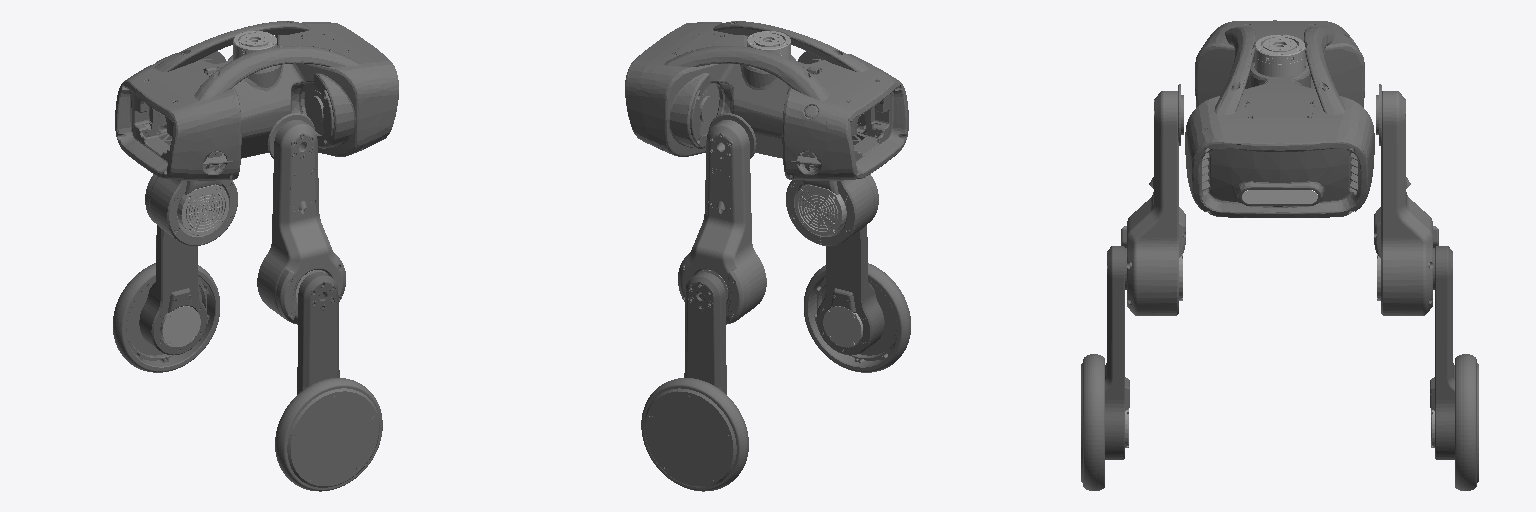
URDF robot description (pineapple_v2):
<?xml version="1.0" encoding="utf-8"?>
<!-- This URDF was automatically created by SolidWorks to URDF Exporter! Originally created by Stephen Brawner (brawner@gmail.com) 
     Commit Version: 1.6.0-4-g7f85cfe  Build Version: 1.6.7995.38578
     For more information, please see http://wiki.ros.org/sw_urdf_exporter -->
<robot
  name="pineapple_v2">
  <mujoco>
    <compiler
      meshdir="v2/meshes"
      balanceinertia="true"
      discardvisual="false" />
  </mujoco>
  <link
    name="base_link">
    <inertial>
      <origin
        xyz="-0.0018705 1.4002E-08 0.043903"
        rpy="0 0 0" />
      <mass
        value="1.673" />
      <inertia
        ixx="0.00924389"
        ixy="0"
        ixz="-0.00155379"
        iyy="0.01472633"
        iyz="0"
        izz="0.02192228" />
    </inertial>
    <visual>
      <origin
        xyz="0 0 0"
        rpy="0 0 0" />
      <geometry>
        <mesh
          filename="package://v2/meshes/base_link.STL" />
      </geometry>
      <material
        name="">
        <color
          rgba="0.48627 0.48627 0.48627 1" />
      </material>
    </visual>
    <collision>
      <origin
        xyz="0.03 0 0.058"
        rpy="0 0 0" />
      <geometry>
        <box size="0.31 0.15 0.13"/>
      </geometry>
    </collision>
  </link>
  <link
    name="battery">
    <inertial>
      <origin
        xyz="-0.060839 -3.4182E-06 0.06104"
        rpy="0 0 0" />
      <mass
        value="0.76" />
      <inertia
        ixx="0.00045379"
        ixy="0"
        ixz="-0.00004362"
        iyy="0.00161715"
        iyz="0"
        izz="0.00174882" />
    </inertial>
    <visual>
      <origin
        xyz="0 0 0"
        rpy="0 0 0" />
      <geometry>
        <mesh
          filename="package://v2/meshes/battery.STL" />
      </geometry>
      <material
        name="">
        <color
          rgba="1 1 1 1" />
      </material>
    </visual>
  </link>
  <joint
    name="battery_fix"
    type="fixed">
    <origin
      xyz="0 0 0"
      rpy="0 0 0" />
    <parent
      link="base_link" />
    <child
      link="battery" />
    <axis
      xyz="0 0 0" />
  </joint>
  <link
    name="arm_base">
    <inertial>
      <origin
        xyz="0.031204 -1.73E-09 0.11757"
        rpy="0 0 0" />
      <mass
        value="0.375" />
      <inertia
        ixx="0.00018034"
        ixy="0"
        ixz="0"
        iyy="0.00018048"
        iyz="0"
        izz="0.00015376" />
    </inertial>
    <visual>
      <origin
        xyz="0 0 0"
        rpy="0 0 0" />
      <geometry>
        <mesh
          filename="package://v2/meshes/arm_base.STL" />
      </geometry>
      <material
        name="">
        <color
          rgba="0.62745 0.62745 0.62745 1" />
      </material>
    </visual>
  </link>
  <joint
    name="arm_base_fix"
    type="fixed">
    <origin
      xyz="0 0 0"
      rpy="0 0 0" />
    <parent
      link="base_link" />
    <child
      link="arm_base" />
    <axis
      xyz="0 0 0" />
  </joint>
  <link
    name="hip_motor_L">
    <inertial>
      <origin
        xyz="0.11298 0.050823 0.056"
        rpy="0 0 0" />
      <mass
        value="0.55" />
      <inertia
        ixx="0.00058434"
        ixy="0"
        ixz="0"
        iyy="0.00035536"
        iyz="0"
        izz="0.00035536" />
    </inertial>
    <visual>
      <origin
        xyz="0 0 0"
        rpy="0 0 0" />
      <geometry>
        <mesh
          filename="package://v2/meshes/hip_motor_L.STL" />
      </geometry>
      <material
        name="">
        <color
          rgba="0.53725 0.53725 0.53725 1" />
      </material>
    </visual>
  </link>
  <joint
    name="hip_motor_L_fix"
    type="fixed">
    <origin
      xyz="0 0 0"
      rpy="0 0 0" />
    <parent
      link="base_link" />
    <child
      link="hip_motor_L" />
    <axis
      xyz="0 0 0" />
  </joint>
  <link
    name="hip_motor_R">
    <inertial>
      <origin
        xyz="0.11298 -0.050823 0.056"
        rpy="0 0 0" />
      <mass
        value="0.55" />
      <inertia
        ixx="0.00058436"
        ixy="0"
        ixz="0"
        iyy="0.00035536"
        iyz="0"
        izz="0.00035536" />
    </inertial>
    <visual>
      <origin
        xyz="0 0 0"
        rpy="0 0 0" />
      <geometry>
        <mesh
          filename="package://v2/meshes/hip_motor_R.STL" />
      </geometry>
      <material
        name="">
        <color
          rgba="0.53725 0.53725 0.53725 1" />
      </material>
    </visual>
  </link>
  <joint
    name="hip_motor_R_fix"
    type="fixed">
    <origin
      xyz="0 0 0"
      rpy="0 0 0" />
    <parent
      link="base_link" />
    <child
      link="hip_motor_R" />
    <axis
      xyz="0 0 0" />
  </joint>
  <link
    name="L_hip">
    <inertial>
      <origin
        xyz="-0.054338 0.035638 0.0012594"
        rpy="0 0 0" />
      <mass
        value="0.894" />
      <inertia
        ixx="0.00086083"
        ixy="0.00019452"
        ixz="-0.00000539"
        iyy="0.00150769"
        iyz="-0.00002673"
        izz="0.00125803" />
    </inertial>
    <visual>
      <origin
        xyz="0 0 0"
        rpy="0 0 0" />
      <geometry>
        <mesh
          filename="package://v2/meshes/L_hip.STL" />
      </geometry>
      <material
        name="">
        <color
          rgba="0.4 0.4 0.4 1" />
      </material>
    </visual>
    <!-- <collision>
      <origin
        xyz="0 0 0"
        rpy="0 0 0" />
      <geometry>
        <mesh
          filename="package://pineappleV2/meshes/L_hip.STL" />
      </geometry>
    </collision> -->
  </link>
  <joint
    name="L_hip_joint"
    type="revolute">
    <origin
      xyz="0.086334 0.050823 0.056"
      rpy="0 0 0" />
    <parent
      link="base_link" />
    <child
      link="L_hip" />
    <axis
      xyz="1 0 0" />
    <limit
      lower="-0.698"
      upper="0.698"
      effort="20.0"
      velocity="12.566" />
  </joint>
  <link
    name="L_thigh">
    <inertial>
      <origin
        xyz="-0.0013708 0.020383 -0.10951"
        rpy="0 0 0" />
      <mass
        value="0.434" />
      <inertia
        ixx="0.00310085"
        ixy="0.00002314"
        ixz="-0.00005039"
        iyy="0.00322592"
        iyz="0.00034394"
        izz="0.00046026" />
    </inertial>
    <visual>
      <origin
        xyz="0 0 0"
        rpy="0 0 0" />
      <geometry>
        <mesh
          filename="package://v2/meshes/L_thigh.STL" />
      </geometry>
      <material
        name="">
        <color
          rgba="0.5 0.5 0.5 1" />
      </material>
    </visual>
    <collision>
      <origin
        xyz="0 0.014 0"
        rpy="1.5707963267948966 0 0" />
      <geometry>
        <cylinder radius="0.028" length="0.028"/>
      </geometry>
    </collision>
    <collision>
      <origin
        xyz="0 0.014 -0.0825"
        rpy="0 0 0" />
      <geometry>
        <box size="0.056 0.028 0.11"/>
      </geometry>
    </collision>
    <collision>
      <origin
        xyz="0 0.029 -0.19"
        rpy="1.5707963267948966 0 0" />
      <geometry>
        <cylinder radius="0.0525" length="0.058"/>
      </geometry>
    </collision>
  </link>
  <joint
    name="L_thigh_joint"
    type="revolute">
    <origin
      xyz="-0.066166 0.063177 0"
      rpy="0 0 0" />
    <parent
      link="L_hip" />
    <child
      link="L_thigh" />
    <axis
      xyz="0 1 0" />
    <limit
      lower="-0.349"
      upper="1.919"
      effort="20.0"
      velocity="12.566" />
  </joint>
  <link
    name="knee_motor_L">
    <inertial>
      <origin
        xyz="3.9085E-05 0.027697 -0.19004"
        rpy="0 0 0" />
      <mass
        value="0.93" />
      <inertia
        ixx="0.00071403"
        ixy="0.00000108"
        ixz="0.00000007"
        iyy="0.00104381"
        iyz="-0.00000112"
        izz="0.00071500" />
    </inertial>
    <visual>
      <origin
        xyz="0 0 0"
        rpy="0 0 0" />
      <geometry>
        <mesh
          filename="package://v2/meshes/knee_motor_L.STL" />
      </geometry>
      <material
        name="">
        <color
          rgba="0.62745 0.62745 0.62745 1" />
      </material>
    </visual>
  </link>
  <joint
    name="knee_motor_L_fix"
    type="fixed">
    <origin
      xyz="0 0 0"
      rpy="0 0 0" />
    <parent
      link="L_thigh" />
    <child
      link="knee_motor_L" />
    <axis
      xyz="0 0 0" />
  </joint>
  <link
    name="L_calf">
    <inertial>
      <origin
        xyz="-3.8284E-05 0.015201 -0.098879"
        rpy="0 0 0" />
      <mass
        value="0.353" />
      <inertia
        ixx="0.00211322"
        ixy="0"
        ixz="0.00000131"
        iyy="0.00220869"
        iyz="0.00010889"
        izz="0.00017931" />
    </inertial>
    <visual>
      <origin
        xyz="0 0 0"
        rpy="0 0 0" />
      <geometry>
        <mesh
          filename="package://v2/meshes/L_calf.STL" />
      </geometry>
      <material
        name="">
        <color
          rgba="0.43922 0.43922 0.43922 1" />
      </material>
    </visual>
    <collision>
      <origin
        xyz="0 0.0135 0"
        rpy="1.5707963267948966 0 0" />
      <geometry>
        <cylinder radius="0.026" length="0.021"/>
      </geometry>
    </collision>
        <collision>
      <origin
        xyz="0 0.0135 -0.087"
        rpy="0 0 0" />
      <geometry>
        <box size="0.052 0.021 0.122"/>
      </geometry>
    </collision>
        <collision>
      <origin
        xyz="0 0.0135 -0.19"
        rpy="1.5707963267948966 0 0" />
      <geometry>
        <cylinder radius="0.0415" length="0.021"/>
      </geometry>
    </collision>
  </link>
  <joint
    name="L_calf_joint"
    type="revolute">
    <origin
      xyz="0 0.056 -0.19"
      rpy="0 0 0" />
    <parent
      link="L_thigh" />
    <child
      link="L_calf" />
    <axis
      xyz="0 1 0" />
    <limit
      lower="-1.745"
      upper="1.745"
      effort="40.0"
      velocity="10.472" />
  </joint>
  <link
    name="wheel_motor_L">
    <inertial>
      <origin
        xyz="8.1392E-05 0.022061 -0.19008"
        rpy="0 0 0" />
      <mass
        value="0.335" />
      <inertia
        ixx="0.00014313"
        ixy="0"
        ixz="0"
        iyy="0.00023596"
        iyz="0"
        izz="0.00014397" />
    </inertial>
    <visual>
      <origin
        xyz="0 0 0"
        rpy="0 0 0" />
      <geometry>
        <mesh
          filename="package://v2/meshes/wheel_motor_L.STL" />
      </geometry>
      <material
        name="">
        <color
          rgba="0.62745 0.62745 0.62745 1" />
      </material>
    </visual>
  </link>
  <joint
    name="wheel_motor_L_fix"
    type="fixed">
    <origin
      xyz="0 0 0"
      rpy="0 0 0" />
    <parent
      link="L_calf" />
    <child
      link="wheel_motor_L" />
    <axis
      xyz="0 0 0" />
  </joint>
  <link
    name="L_wheel">
    <inertial>
      <origin
        xyz="-1.5282E-07 0.012142 -1.1774E-07"
        rpy="0 0 0" />
      <mass
        value="0.405" />
      <inertia
        ixx="0.00113906"
        ixy="0"
        ixz="0"
        iyy="0.00227813"
        iyz="0"
        izz="0.00113906" />
    </inertial>
    <visual>
      <origin
        xyz="0 0 0"
        rpy="0 0 0" />
      <geometry>
        <mesh
          filename="package://v2/meshes/L_wheel.STL" />
      </geometry>
      <material
        name="">
        <color
          rgba="0.48627 0.48627 0.48627 1" />
      </material>
    </visual>
    <collision>
      <origin
        xyz="0 0.012 0"
        rpy="1.5707963267948966 0 0" />
      <geometry>
        <cylinder radius="0.075" length="0.024"/>
      </geometry>
    </collision>
  </link>
  <joint
    name="L_wheel_joint"
    type="revolute">
    <origin
      xyz="0 0.0355 -0.19"
      rpy="0 0 0" />
    <parent
      link="L_calf" />
    <child
      link="L_wheel" />
    <axis
      xyz="0 1 0" />
    <limit
      effort="11.0"
      velocity="15.708" />
  </joint>
  <link
    name="R_hip">
    <inertial>
      <origin
        xyz="-0.054338 -0.035638 0.0012594"
        rpy="0 0 0" />
      <mass
        value="0.894" />
      <inertia
        ixx="0.00086083"
        ixy="-0.00019452"
        ixz="-0.00000539"
        iyy="0.00150769"
        iyz="0.00002673"
        izz="0.00125803" />
    </inertial>
    <visual>
      <origin
        xyz="0 0 0"
        rpy="0 0 0" />
      <geometry>
        <mesh
          filename="package://v2/meshes/R_hip.STL" />
      </geometry>
      <material
        name="">
        <color
          rgba="0.4 0.4 0.4 1" />
      </material>
    </visual>
    <!-- <collision>
      <origin
        xyz="0 0 0"
        rpy="0 0 0" />
      <geometry>
        <mesh
          filename="package://pineappleV2/meshes/R_hip.STL" />
      </geometry>
    </collision> -->
  </link>
  <joint
    name="R_hip_joint"
    type="revolute">
    <origin
      xyz="0.086334 -0.050823 0.056"
      rpy="0 0 0" />
    <parent
      link="base_link" />
    <child
      link="R_hip" />
    <axis
      xyz="1 0 0" />
    <limit
      lower="-0.698"
      upper="0.698"
      effort="20.0"
      velocity="12.566" />
  </joint>
  <link
    name="R_thigh">
    <inertial>
      <origin
        xyz="-0.0013703 -0.020383 -0.10951"
        rpy="0 0 0" />
      <mass
        value="0.434" />
      <inertia
        ixx="0.00310085"
        ixy="-0.00002314"
        ixz="-0.00005039"
        iyy="0.00322592"
        iyz="-0.00034394"
        izz="0.00046026" />
    </inertial>
    <visual>
      <origin
        xyz="0 0 0"
        rpy="0 0 0" />
      <geometry>
        <mesh
          filename="package://v2/meshes/R_thigh.STL" />
      </geometry>
      <material
        name="">
        <color
          rgba="0.5 0.5 0.5 1" />
      </material>
    </visual>
    <collision>
      <origin
        xyz="0 -0.014 0"
        rpy="1.5707963267948966 0 0" />
      <geometry>
        <cylinder radius="0.028" length="0.028"/>
      </geometry>
    </collision>
    <collision>
      <origin
        xyz="0 -0.014 -0.0825"
        rpy="0 0 0" />
      <geometry>
        <box size="0.056 0.028 0.11"/>
      </geometry>
    </collision>
    <collision>
      <origin
        xyz="0 -0.029 -0.19"
        rpy="1.5707963267948966 0 0" />
      <geometry>
        <cylinder radius="0.0525" length="0.058"/>
      </geometry>
    </collision>
  </link>
  <joint
    name="R_thigh_joint"
    type="revolute">
    <origin
      xyz="-0.066166 -0.063177 0"
      rpy="0 0 0" />
    <parent
      link="R_hip" />
    <child
      link="R_thigh" />
    <axis
      xyz="0 1 0" />
    <limit
      lower="-0.349"
      upper="1.919"
      effort="20.0"
      velocity="12.566" />
  </joint>
  <link
    name="knee_motor_R">
    <inertial>
      <origin
        xyz="3.9085E-05 -0.027697 -0.19004"
        rpy="0 0 0" />
      <mass
        value="0.93" />
      <inertia
        ixx="0.00071403"
        ixy="-0.00000108"
        ixz="0.00000007"
        iyy="0.00104381"
        iyz="0.00000112"
        izz="0.00071500" />
    </inertial>
    <visual>
      <origin
        xyz="0 0 0"
        rpy="0 0 0" />
      <geometry>
        <mesh
          filename="package://v2/meshes/knee_motor_R.STL" />
      </geometry>
      <material
        name="">
        <color
          rgba="0.62745 0.62745 0.62745 1" />
      </material>
    </visual>
  </link>
  <joint
    name="Knee_motor_R_fix"
    type="fixed">
    <origin
      xyz="0 0 0"
      rpy="0 0 0" />
    <parent
      link="R_thigh" />
    <child
      link="knee_motor_R" />
    <axis
      xyz="0 0 0" />
  </joint>
  <link
    name="R_calf">
    <inertial>
      <origin
        xyz="-3.6986E-05 -0.015201 -0.098873"
        rpy="0 0 0" />
      <mass
        value="0.353" />
      <inertia
        ixx="0.00211322"
        ixy="0"
        ixz="0.00000131"
        iyy="0.00220869"
        iyz="-0.00010889"
        izz="0.00017931" />
    </inertial>
    <visual>
      <origin
        xyz="0 0 0"
        rpy="0 0 0" />
      <geometry>
        <mesh
          filename="package://v2/meshes/R_calf.STL" />
      </geometry>
      <material
        name="">
        <color
          rgba="0.43922 0.43922 0.43922 1" />
      </material>
    </visual>
    <collision>
      <origin
        xyz="0 -0.0135 0"
        rpy="1.5707963267948966 0 0" />
      <geometry>
        <cylinder radius="0.026" length="0.021"/>
      </geometry>
    </collision>
        <collision>
      <origin
        xyz="0 -0.0135 -0.087"
        rpy="0 0 0" />
      <geometry>
        <box size="0.052 0.021 0.122"/>
      </geometry>
    </collision>
        <collision>
      <origin
        xyz="0 -0.0135 -0.19"
        rpy="1.5707963267948966 0 0" />
      <geometry>
        <cylinder radius="0.0415" length="0.021"/>
      </geometry>
    </collision>
  </link>
  <joint
    name="R_calf_joint"
    type="revolute">
    <origin
      xyz="0 -0.056 -0.19"
      rpy="0 0 0" />
    <parent
      link="R_thigh" />
    <child
      link="R_calf" />
    <axis
      xyz="0 1 0" />
    <limit
      lower="-1.745"
      upper="1.745"
      effort="40.0"
      velocity="10.472" />
  </joint>
  <link
    name="wheel_motor_R">
    <inertial>
      <origin
        xyz="8.1392E-05 -0.022061 -0.19008"
        rpy="0 0 0" />
      <mass
        value="0.335" />
      <inertia
        ixx="0.00014313"
        ixy="0"
        ixz="0"
        iyy="0.00023596"
        iyz="0"
        izz="0.00014397" />
    </inertial>
    <visual>
      <origin
        xyz="0 0 0"
        rpy="0 0 0" />
      <geometry>
        <mesh
          filename="package://v2/meshes/wheel_motor_R.STL" />
      </geometry>
      <material
        name="">
        <color
          rgba="0.62745 0.62745 0.62745 1" />
      </material>
    </visual>
  </link>
  <joint
    name="wheel_motor_R_fix"
    type="fixed">
    <origin
      xyz="0 0 0"
      rpy="0 0 0" />
    <parent
      link="R_calf" />
    <child
      link="wheel_motor_R" />
    <axis
      xyz="0 0 0" />
  </joint>
  <link
    name="R_wheel">
    <inertial>
      <origin
        xyz="-6.462E-08 -0.012142 -7.2937E-08"
        rpy="0 0 0" />
      <mass
        value="0.405" />
      <inertia
        ixx="0.00113906"
        ixy="0"
        ixz="0"
        iyy="0.00227813"
        iyz="0"
        izz="0.00113906" />
    </inertial>
    <visual>
      <origin
        xyz="0 0 0"
        rpy="0 0 0" />
      <geometry>
        <mesh
          filename="package://v2/meshes/R_wheel.STL" />
      </geometry>
      <material
        name="">
        <color
          rgba="0.48627 0.48627 0.48627 1" />
      </material>
    </visual>
    <collision>
      <origin
        xyz="0 -0.012 0"
        rpy="1.5707963267948966 0 0" />
      <geometry>
        <cylinder radius="0.075" length="0.024"/>
      </geometry>
    </collision>
  </link>
  <joint
    name="R_wheel_joint"
    type="revolute">
    <origin
      xyz="0 -0.0355 -0.19"
      rpy="0 0 0" />
    <parent
      link="R_calf" />
    <child
      link="R_wheel" />
    <axis
      xyz="0 1 0" />
    <limit
      effort="11.0"
      velocity="15.708" />
  </joint>
  <link
    name="camera">
    <inertial>
      <origin
        xyz="0 0 0"
        rpy="0 0 0" />
      <mass
        value="0.3" />
      <inertia
        ixx="0.00018695"
        ixy="-0.00000169"
        ixz="0.00000039"
        iyy="0.00002755"
        iyz="0.00000043"
        izz="0.00018826" />
    </inertial>
    <visual>
      <origin
        xyz="0 0 0"
        rpy="0 0 0" />
      <geometry>
        <mesh
          filename="package://v2/meshes/camera.STL" />
      </geometry>
      <material
        name="">
        <color
          rgba="1 1 1 1" />
      </material>
    </visual>
  </link>
  <joint
    name="camera_fix"
    type="fixed">
    <origin
      xyz="0 0 0"
      rpy="0 0 0" />
    <parent
      link="base_link" />
    <child
      link="camera" />
    <axis
      xyz="0 0 0" />
  </joint>
</robot>

--- Facts derived from the render (not from the file) ---
Views: 3 orthographic renders of the robot side by side, from view 1: azimuth 30°, elevation 25°; view 2: azimuth 150°, elevation 25°; view 3: azimuth 270°, elevation 25°.
Model pineapple_v2 with 18 links and 17 joints (8 revolute, 9 fixed), rooted at base_link, posed all joints at 0.
Links seen in each view (by area): view 1: base_link, R_thigh, R_wheel, L_wheel, L_calf, R_calf, L_thigh, knee_motor_L, wheel_motor_L, arm_base, hip_motor_R; view 2: base_link, L_thigh, L_wheel, R_wheel, R_calf, L_calf, R_thigh, knee_motor_R, wheel_motor_R, arm_base, hip_motor_L; view 3: base_link, L_thigh, R_thigh, L_calf, R_calf, L_wheel, R_wheel, arm_base, camera.
Boxes of the visible links, x1,y1,x2,y2 form: base_link: [115, 21, 398, 180]; R_thigh: [257, 113, 345, 324]; R_wheel: [275, 378, 382, 491]; L_wheel: [113, 263, 219, 372]; L_calf: [139, 225, 207, 354]; R_calf: [297, 272, 339, 394]; L_thigh: [145, 51, 237, 245]; knee_motor_L: [177, 184, 228, 235]; wheel_motor_L: [160, 306, 200, 346]; arm_base: [233, 31, 276, 59]; hip_motor_R: [304, 83, 324, 134]; base_link: [625, 21, 908, 180]; L_thigh: [678, 113, 766, 324]; L_wheel: [641, 378, 748, 491]; R_wheel: [804, 263, 910, 372]; R_calf: [816, 225, 884, 354]; L_calf: [684, 272, 726, 394]; R_thigh: [786, 51, 878, 245]; knee_motor_R: [795, 185, 846, 235]; wheel_motor_R: [823, 306, 862, 347]; arm_base: [747, 31, 790, 59]; hip_motor_L: [699, 83, 719, 135]; base_link: [1185, 20, 1374, 217]; L_thigh: [1374, 84, 1438, 315]; R_thigh: [1121, 84, 1185, 315]; L_calf: [1430, 246, 1454, 459]; R_calf: [1105, 246, 1129, 459]; L_wheel: [1455, 354, 1478, 490]; R_wheel: [1081, 354, 1104, 490]; arm_base: [1255, 35, 1304, 76]; camera: [1242, 190, 1317, 203].
Size in the robot's own frame: 0.3416 by 0.446 by 0.5495 metres.
Meshes: 18 distinct files referenced, 15 mesh visuals loaded (15 binary STL); not drawn: 3 (reference not matched to a file when rendering).
